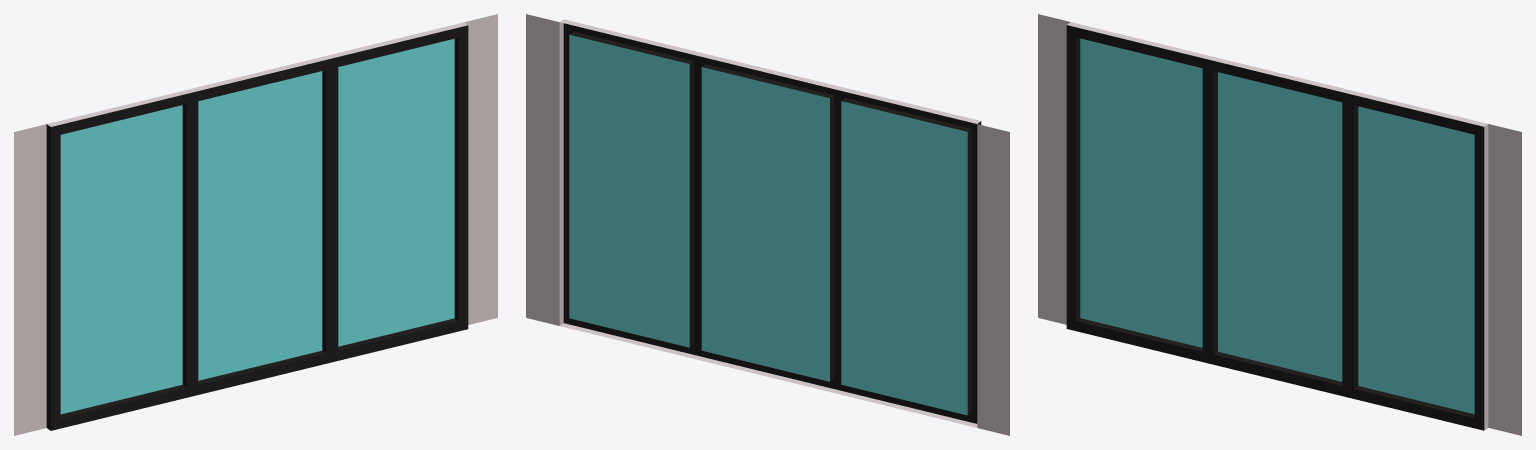
File: Wall_window_3X5.fbx
3 renders of one model, left to right at view 1: azimuth 30°, elevation 25°; view 2: azimuth 150°, elevation 25°; view 3: azimuth 330°, elevation 25°, orthographic.
Parts seen in each view (by area): view 1: Wall_Window_3X5; view 2: Wall_Window_3X5; view 3: Wall_Window_3X5.
Part boxes in pixels (bbox=[...]): Wall_Window_3X5: bbox=[14, 14, 497, 435]; Wall_Window_3X5: bbox=[526, 14, 1009, 435]; Wall_Window_3X5: bbox=[1038, 14, 1521, 435].
Bounding box in the file's own units: 5 × 3 × 0.0735.
